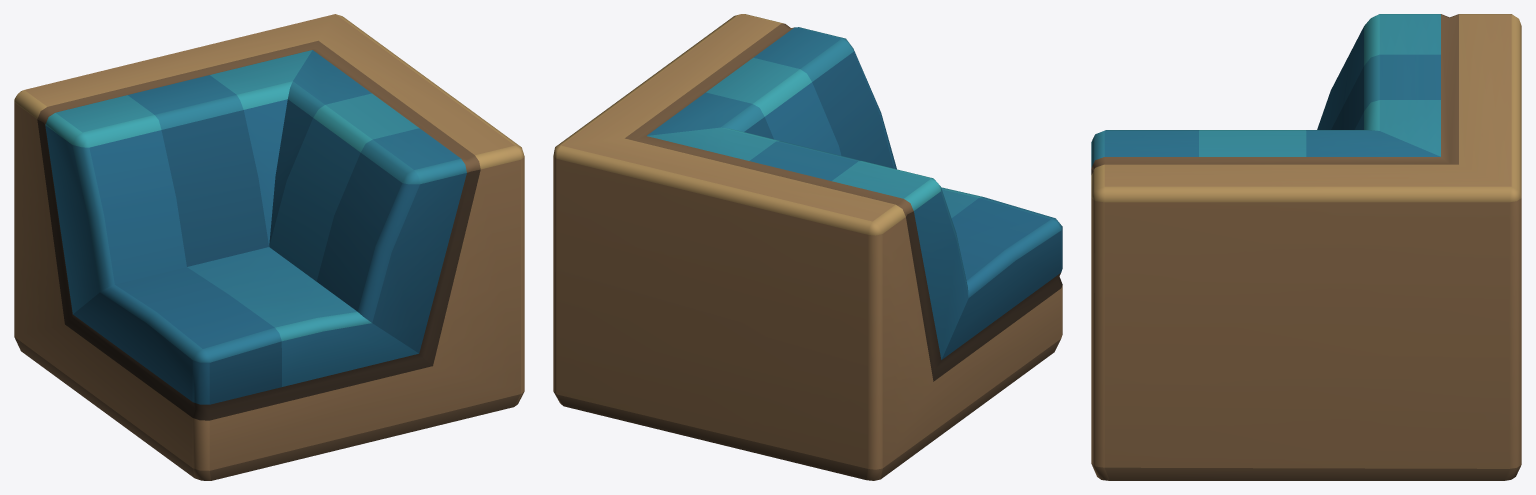
File: seating_outdoor1_2_corner_conc_LOD_setup.fbx
The picture shows the model from 3 angles, left to right: view 1: azimuth 30°, elevation 25°; view 2: azimuth 150°, elevation 25°; view 3: azimuth 270°, elevation 25°; orthographic projection. The views are drawn at different scales.
Visible parts, largest first — view 1: seating_outdoor1_2_corner_conc_LOD0; view 2: seating_outdoor1_2_corner_conc_LOD0; view 3: seating_outdoor1_2_corner_conc_LOD0.
Boxes of the visible parts, x1=… form: seating_outdoor1_2_corner_conc_LOD0: x1=14, y1=14, x2=524, y2=480; seating_outdoor1_2_corner_conc_LOD0: x1=553, y1=14, x2=1062, y2=480; seating_outdoor1_2_corner_conc_LOD0: x1=1091, y1=14, x2=1521, y2=480.
Size of what is drawn, in the model's own units: 100 by 75 by 100.
